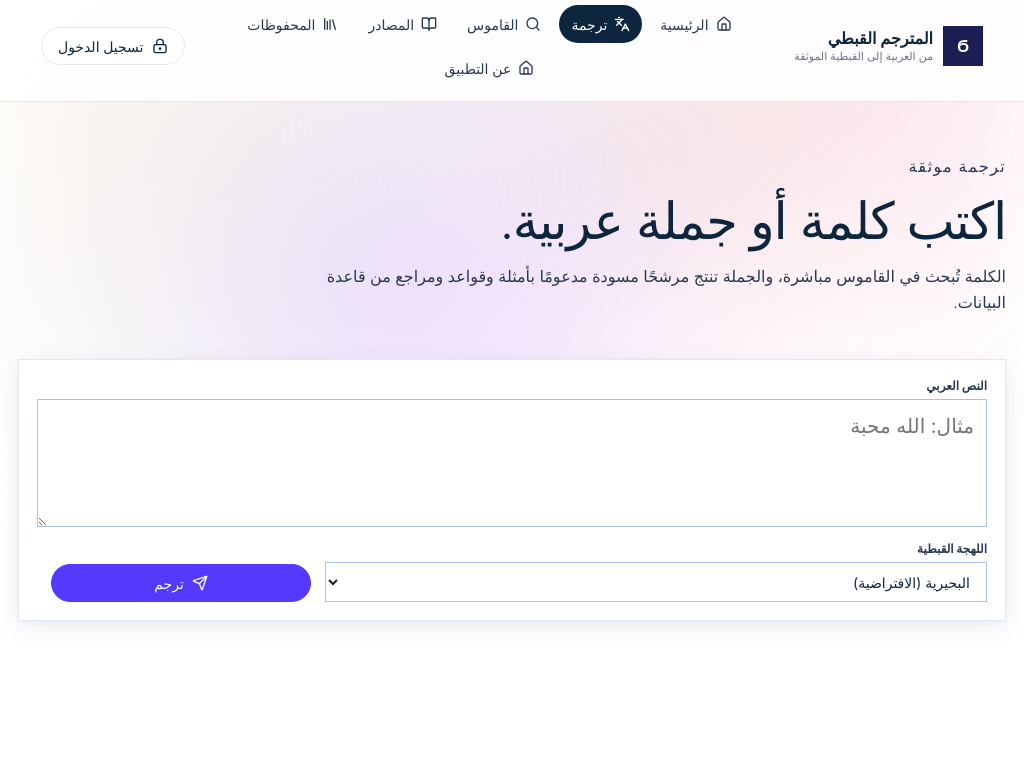
Test: TranslatePage › submits sentence translation and displays unknown words plus draft warning
Type "الله غامض" into the text box with placeholder "مثال: الله محبة" at [512, 463], box left=37, top=399, right=987, bottom=527
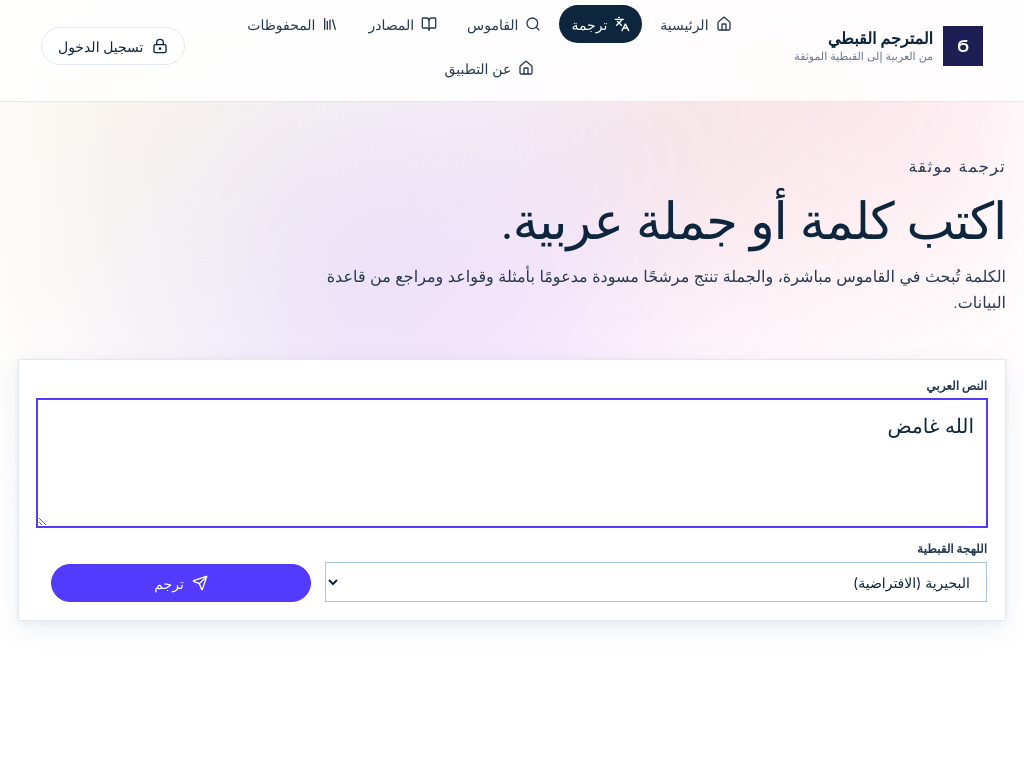
Click the button "ترجم" at [181, 583], box left=51, top=564, right=311, bottom=602
(page scrolled)
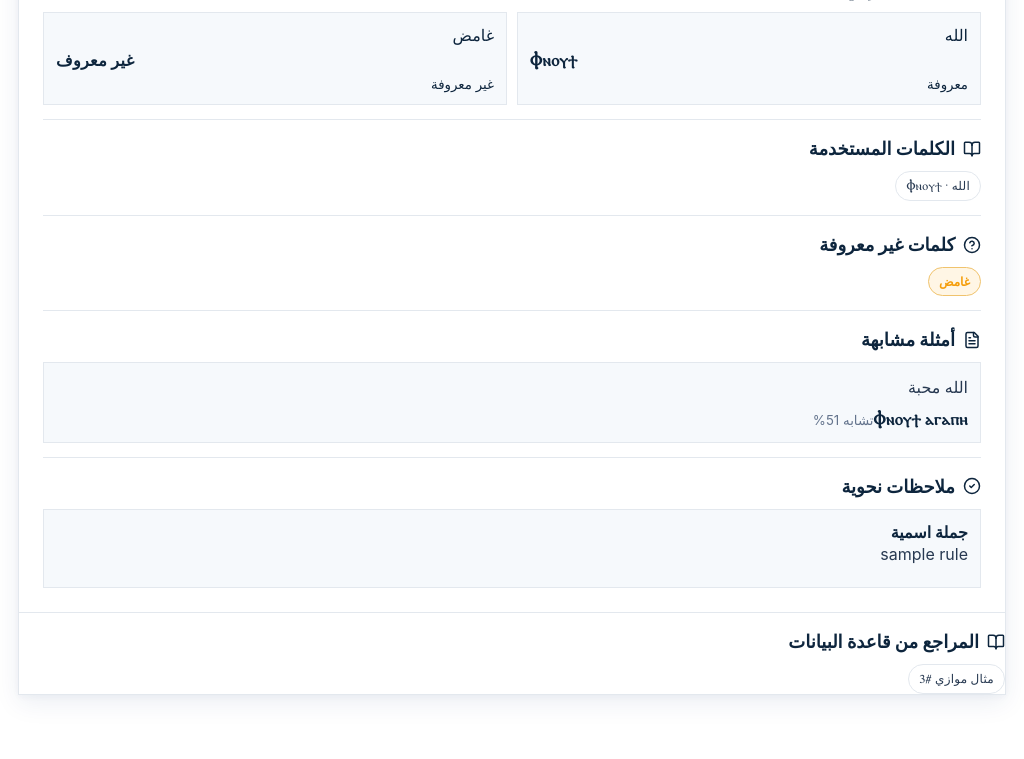
Now the 1st text "غامض" is shown, box left=453, top=25, right=494, bottom=45
Now the text "جملة اسمية" is shown, box left=891, top=522, right=968, bottom=542
